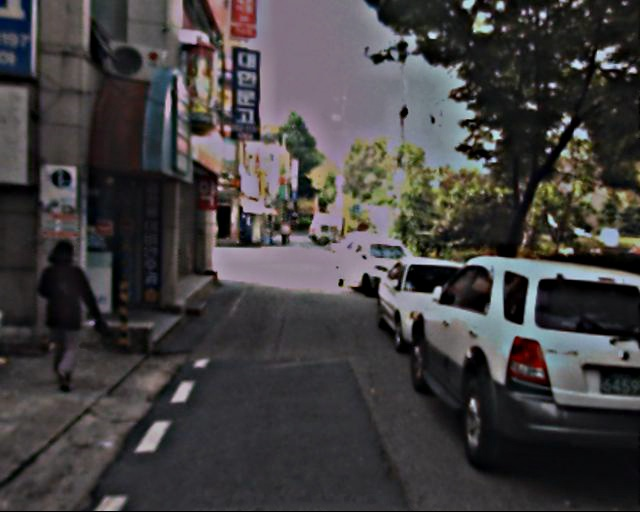person: (33, 235, 107, 389)
